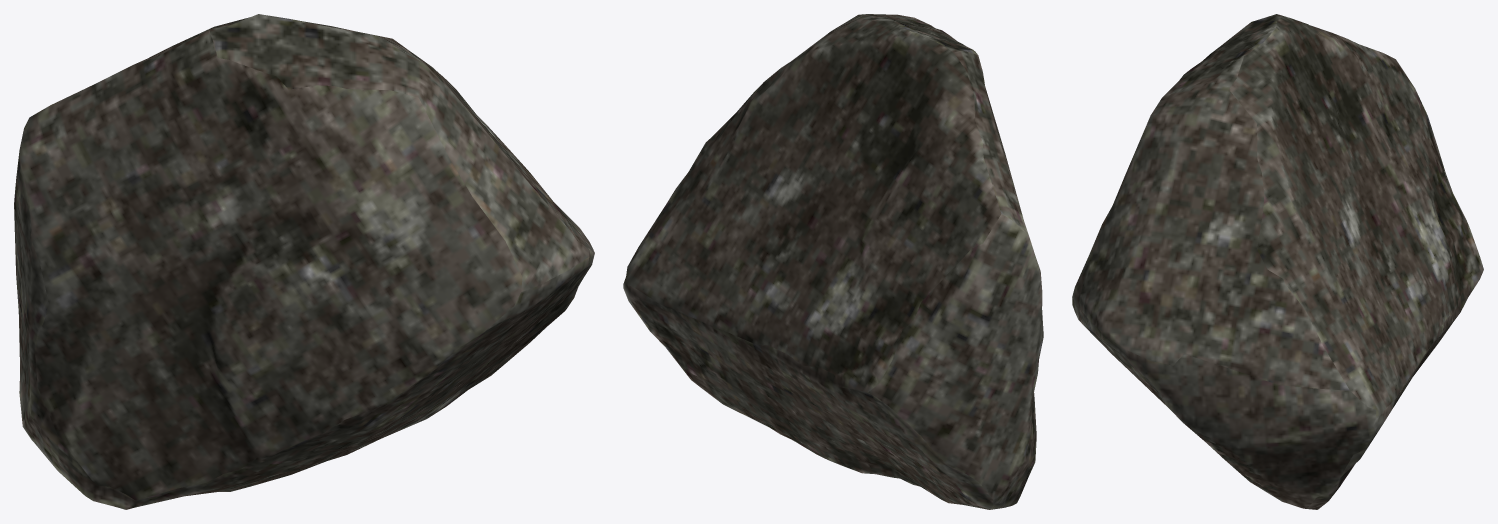
The model's file is SM_Middle_Rock_02_LOD1.fbx.
The picture shows the model from 3 angles, left to right: view 1: azimuth 30°, elevation 25°; view 2: azimuth 150°, elevation 25°; view 3: azimuth 270°, elevation 25°; orthographic projection. The views are drawn at different scales.
Visible parts, largest first — view 1: SM_Middle_Rock_02_LOD1; view 2: SM_Middle_Rock_02_LOD1; view 3: SM_Middle_Rock_02_LOD1.
Part boxes in pixels (<box>): SM_Middle_Rock_02_LOD1: <box>14,14,594,509</box>; SM_Middle_Rock_02_LOD1: <box>623,14,1043,509</box>; SM_Middle_Rock_02_LOD1: <box>1072,14,1483,509</box>.
Bounding box in the file's own units: 379 × 376 × 329.
